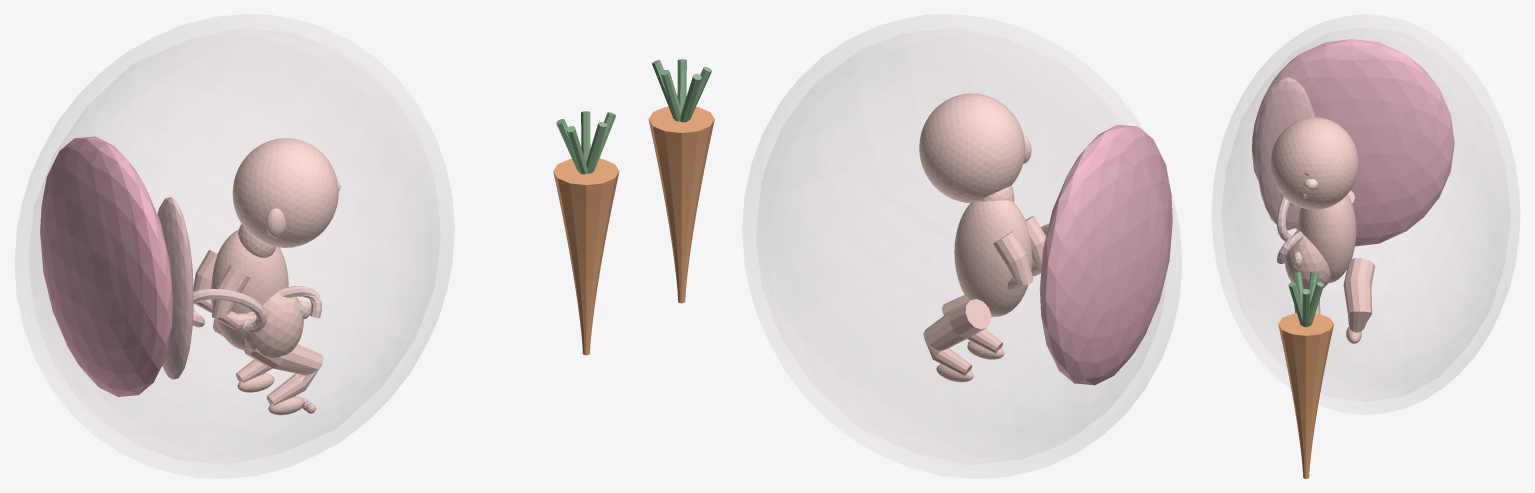
The model's file is hafta_21.glb.
3 renders of one model, left to right at view 1: azimuth 30°, elevation 25°; view 2: azimuth 150°, elevation 25°; view 3: azimuth 270°, elevation 25°, orthographic. The views are drawn at different scales.
Parts seen in each view (by area): view 1: Gebelik_kesesi_dis_zar_25, Plasenta_gelisen_doku_27, Bas_1, Havuc_uzunluk_karsilastirma_29, Plasenta_yumusak_yuzey_28, Gogus_govde_2, Gobel_ve_karin_3, Bacak_on_18, Gobek_kordonu_ogretici_24, Kol_on_11, Kol_on_arka_9; view 2: Gebelik_kesesi_dis_zar_25, Plasenta_gelisen_doku_27, Bas_1, Havuc_uzunluk_karsilastirma_29, Gogus_govde_2, Bacak_arka_16, Kol_on_arka_9, Bacak_on_18, Kol_on_11; view 3: Gebelik_kesesi_dis_zar_25, Plasenta_gelisen_doku_27, Bas_1, Havuc_uzunluk_karsilastirma_29, Plasenta_yumusak_yuzey_28, Gogus_govde_2, Bacak_arka_16, Gobel_ve_karin_3, Gobek_kordonu_ogretici_24.
Boxes of the visible parts, x1,y1,x2,y2 form: Gebelik_kesesi_dis_zar_25: (15,14,454,478); Plasenta_gelisen_doku_27: (40,136,172,396); Bas_1: (232,138,338,247); Havuc_uzunluk_karsilastirma_29: (553,158,619,355); Plasenta_yumusak_yuzey_28: (157,197,193,379); Gogus_govde_2: (211,229,288,350); Gobel_ve_karin_3: (244,287,303,357); Bacak_on_18: (243,344,323,405); Gobek_kordonu_ogretici_24: (193,286,321,333); Kol_on_11: (212,265,256,329); Kol_on_arka_9: (193,249,217,313); Gebelik_kesesi_dis_zar_25: (742,14,1181,478); Plasenta_gelisen_doku_27: (1039,124,1172,385); Bas_1: (919,93,1025,202); Havuc_uzunluk_karsilastirma_29: (648,106,714,303); Gogus_govde_2: (954,200,1032,316); Bacak_arka_16: (923,299,991,376); Kol_on_arka_9: (992,231,1033,291); Bacak_on_18: (942,295,1021,353); Kol_on_11: (1025,216,1045,276); Gebelik_kesesi_dis_zar_25: (1212,14,1519,414); Plasenta_gelisen_doku_27: (1252,39,1454,246); Bas_1: (1270,117,1358,209); Havuc_uzunluk_karsilastirma_29: (1278,313,1333,478); Plasenta_yumusak_yuzey_28: (1256,77,1314,230); Gogus_govde_2: (1298,194,1356,283); Bacak_arka_16: (1343,258,1375,332); Gobel_ve_karin_3: (1285,230,1330,288); Gobek_kordonu_ogretici_24: (1276,192,1302,263).
Bounding box in the file's own units: 10.63 × 8.1 × 6.2.
